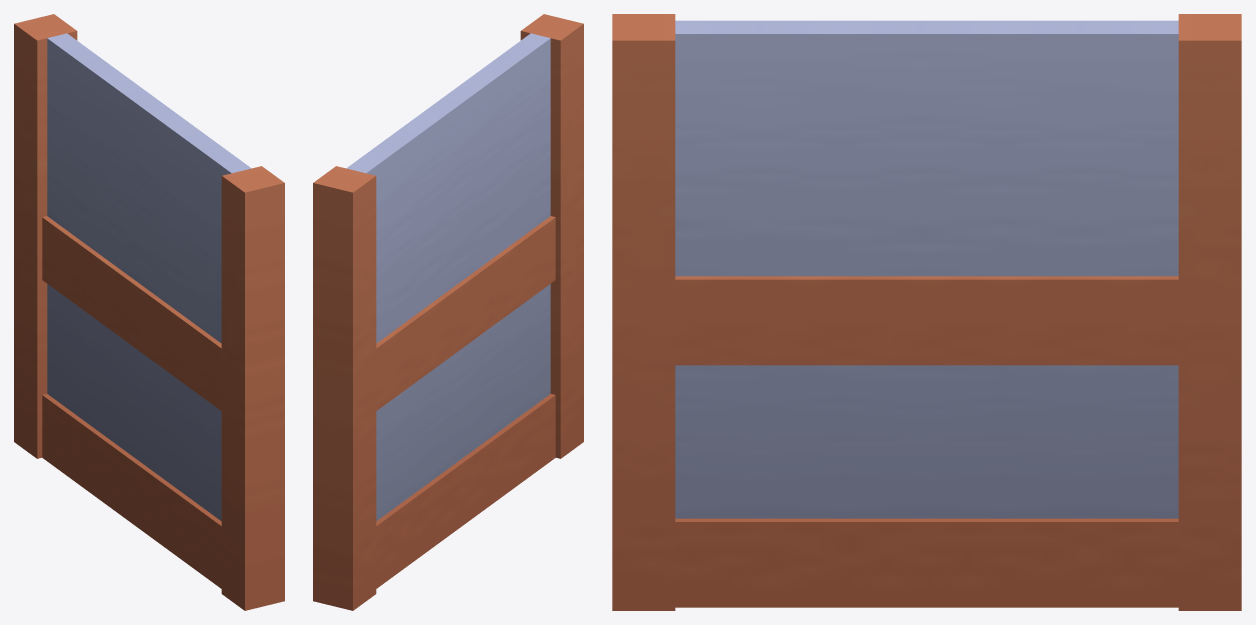
Rendered from wallDetailHorizontal.fbx.
3 renders of one model, left to right at view 1: azimuth 30°, elevation 25°; view 2: azimuth 150°, elevation 25°; view 3: azimuth 270°, elevation 25°, orthographic. The views are drawn at different scales.
Parts seen in each view (by area): view 1: wallDetailHorizontal; view 2: wallDetailHorizontal; view 3: wallDetailHorizontal.
Part boxes in pixels (x1=…): wallDetailHorizontal: x1=14, y1=14, x2=284, y2=610; wallDetailHorizontal: x1=313, y1=14, x2=583, y2=610; wallDetailHorizontal: x1=612, y1=14, x2=1241, y2=610.
Bounding box in the file's own units: 0.1 × 1 × 1.
